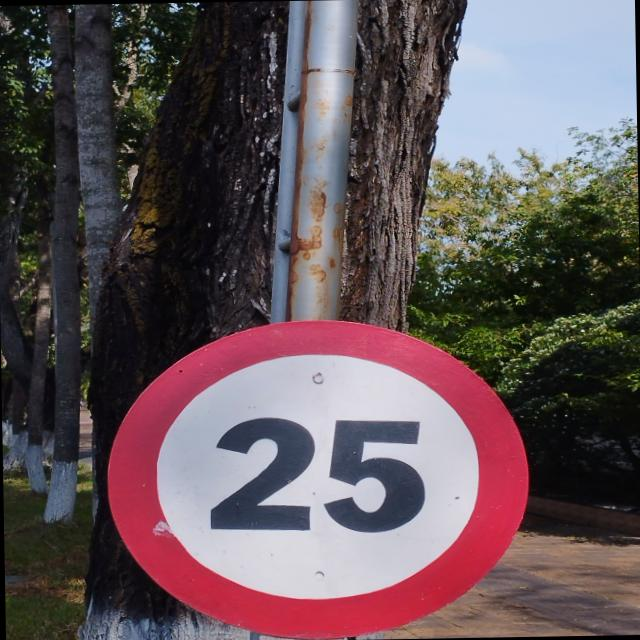Tre_Em: (106, 316, 534, 640)
